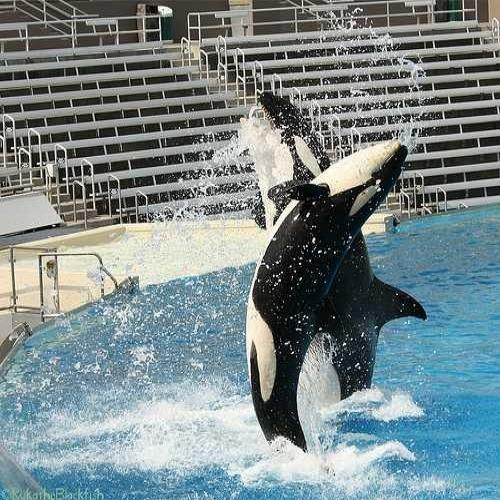killer_whale-endangered: (239, 73, 444, 371), (236, 137, 413, 466)
